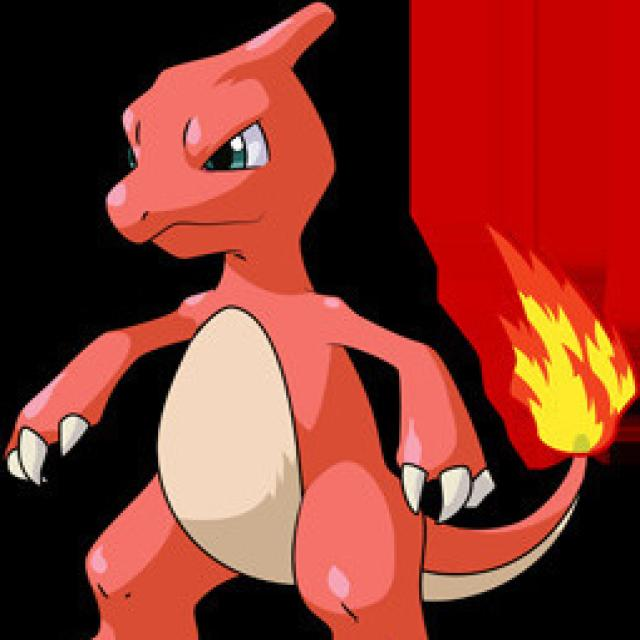Charmeleon: (71, 54, 475, 640)
